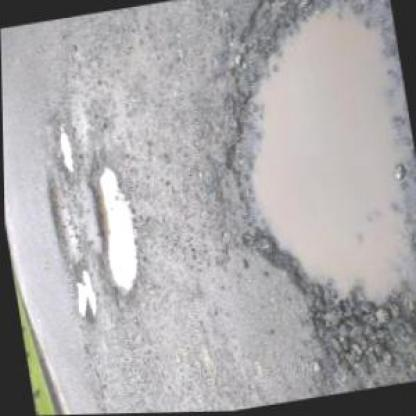pothole: (192, 0, 414, 380), (82, 151, 143, 302), (43, 168, 73, 265), (67, 265, 97, 322), (50, 118, 76, 176)
